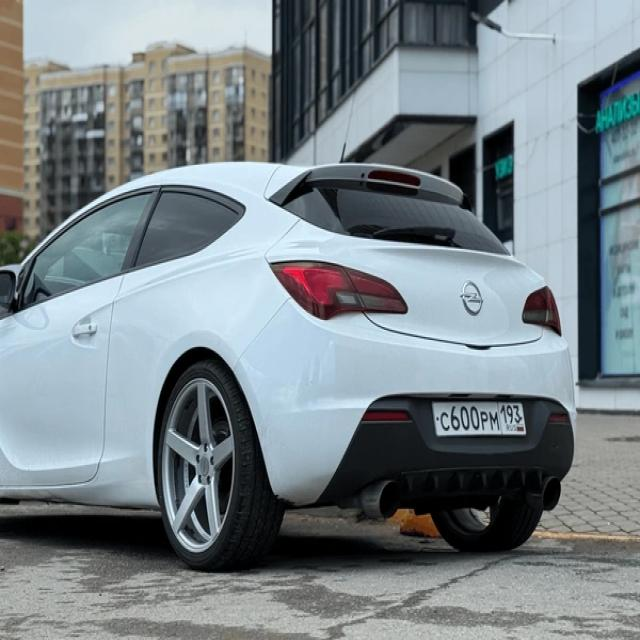opel: (459, 279, 486, 316)
